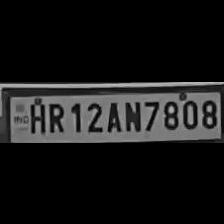0: (180, 96, 198, 130)
1: (66, 99, 82, 133)
2: (84, 99, 104, 134)
7: (141, 97, 159, 131)
8: (159, 97, 179, 130), (198, 96, 218, 128)
A: (103, 98, 121, 132)
H: (27, 99, 46, 134)
N: (122, 97, 140, 132)
R: (45, 98, 65, 134)
